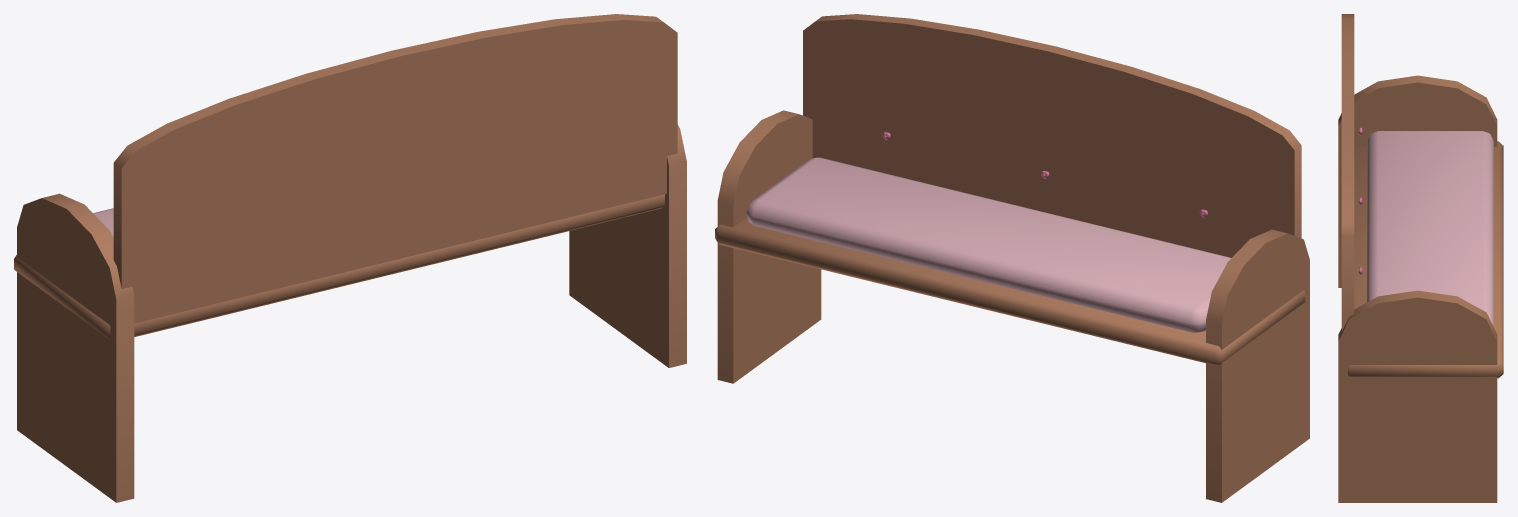
Rendered from bench_settle.glb.
The picture shows the model from 3 angles, left to right: view 1: azimuth 30°, elevation 25°; view 2: azimuth 150°, elevation 25°; view 3: azimuth 270°, elevation 25°; orthographic projection. The views are drawn at different scales.
Parts seen in each view (by area): view 1: bench_settle; view 2: bench_settle; view 3: bench_settle.
Boxes of the visible parts, x1=… form: bench_settle: x1=14, y1=14, x2=686, y2=502; bench_settle: x1=715, y1=14, x2=1309, y2=502; bench_settle: x1=1338, y1=14, x2=1503, y2=502.
Size of what is drawn, in the model's own units: 1.6 by 1 by 0.5.
